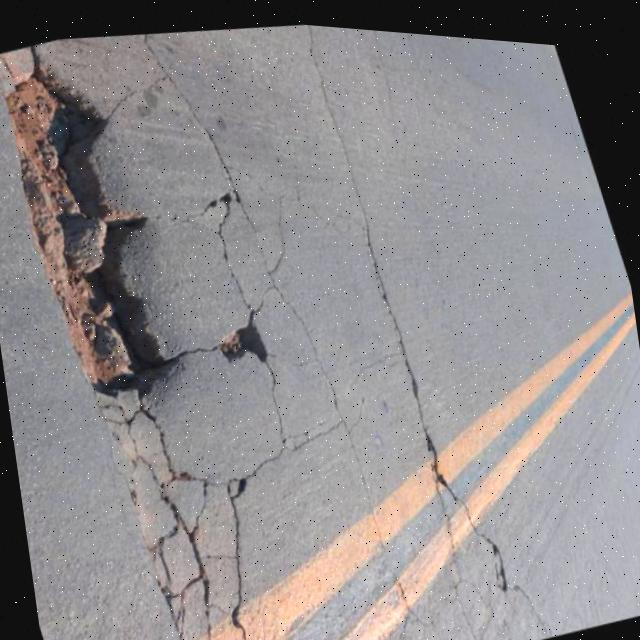Pothole: (0, 32, 212, 433), (210, 306, 284, 381)
